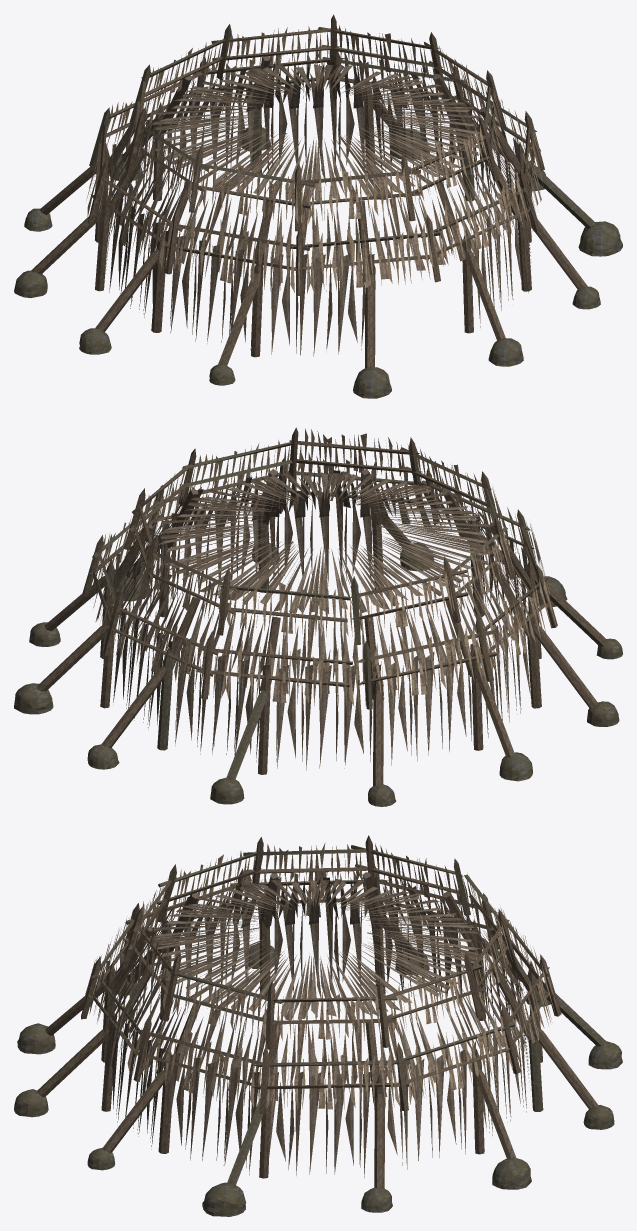
File: cercado_redondo.glb
3 renders of one model, top to bottom at view 1: azimuth 30°, elevation 25°; view 2: azimuth 150°, elevation 25°; view 3: azimuth 270°, elevation 25°, orthographic.
Visible parts, largest first — view 1: cercado_redondo; view 2: cercado_redondo; view 3: cercado_redondo.
Boxes of the visible parts, box(x1,y1,x2,y2) form: cercado_redondo: box(14, 14, 622, 398); cercado_redondo: box(14, 427, 622, 806); cercado_redondo: box(14, 835, 622, 1216).
Size of the model in its own units: 14.37 by 4.79 by 14.37.
4 materials, 4 textured.
